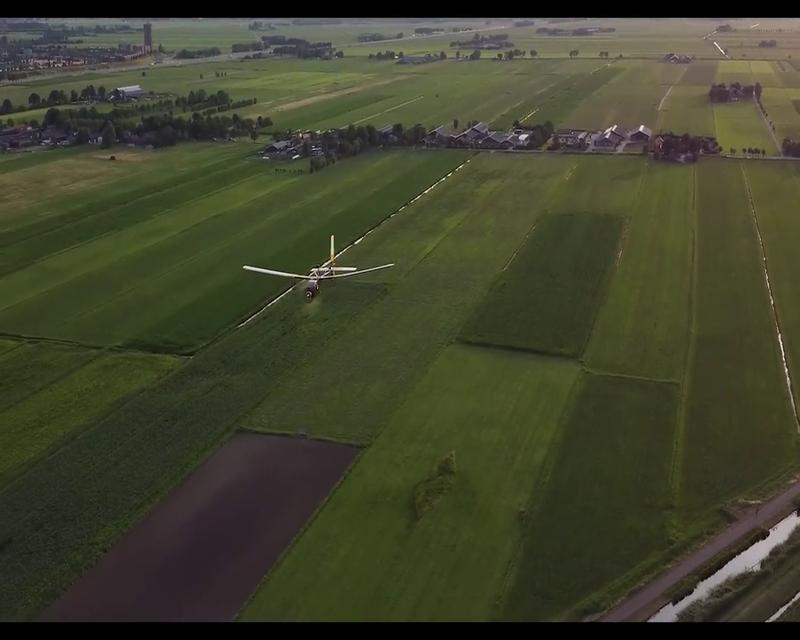UAV: (241, 232, 395, 301)
